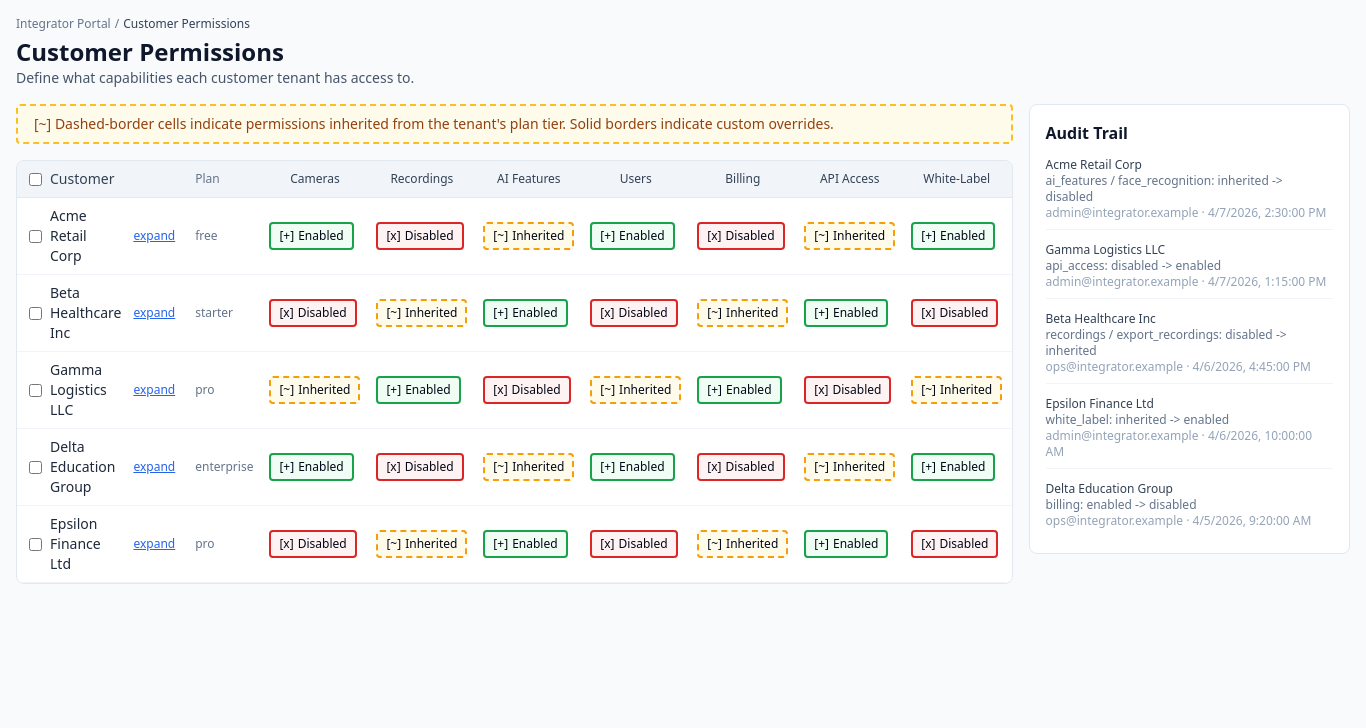
Test: PermissionsPage › expands sub-permissions when expand is clicked
Expected: the element with test id "permissions-matrix" is shown, [16,160,1012,584]
Expected: the row with test id "tenant-row-cust-integrator-001-000" is shown, [17,198,1012,274]
Click the button with test id "expand-cust-integrator-001-000" at (154, 236), box [133,228,175,244]
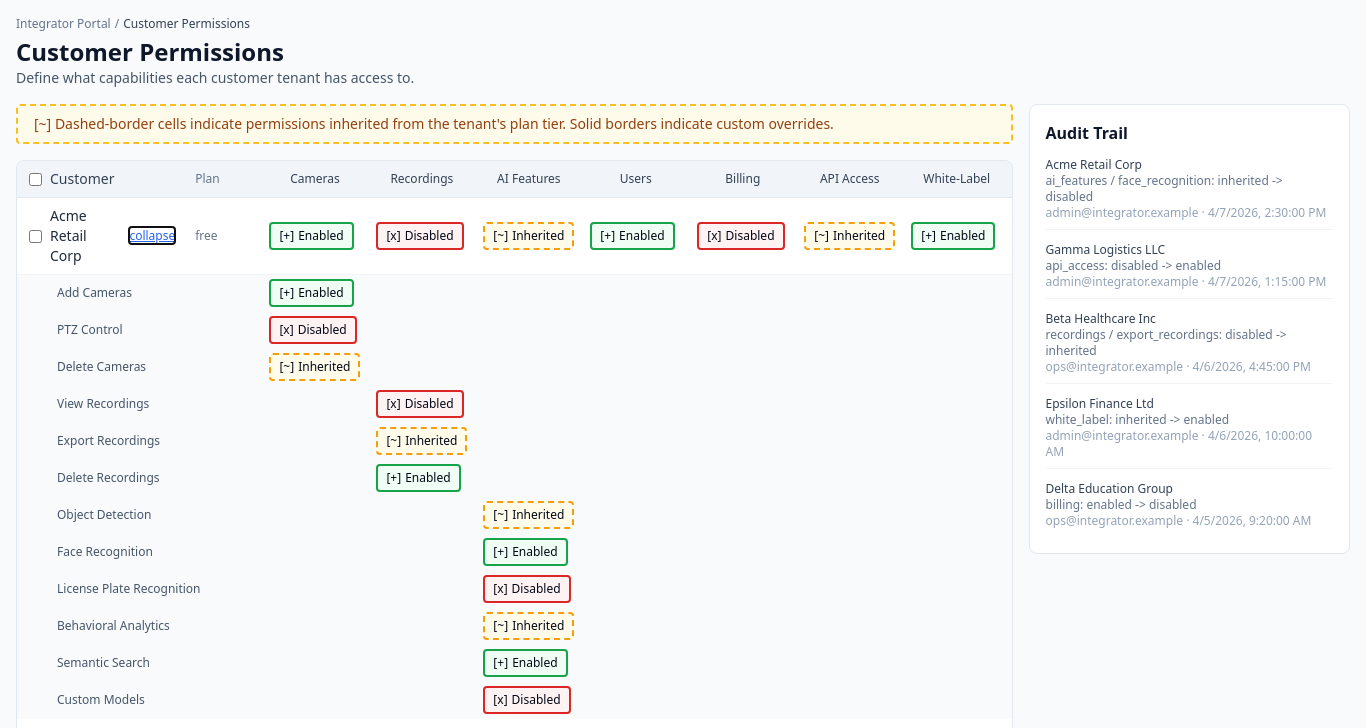
Result: the row with test id "sub-row-cust-integrator-001-000-cameras-add_cameras" is shown at [17,274,1012,312]
Result: the row with test id "sub-row-cust-integrator-001-000-ai_features-object_detection" is shown at [17,496,1012,534]
